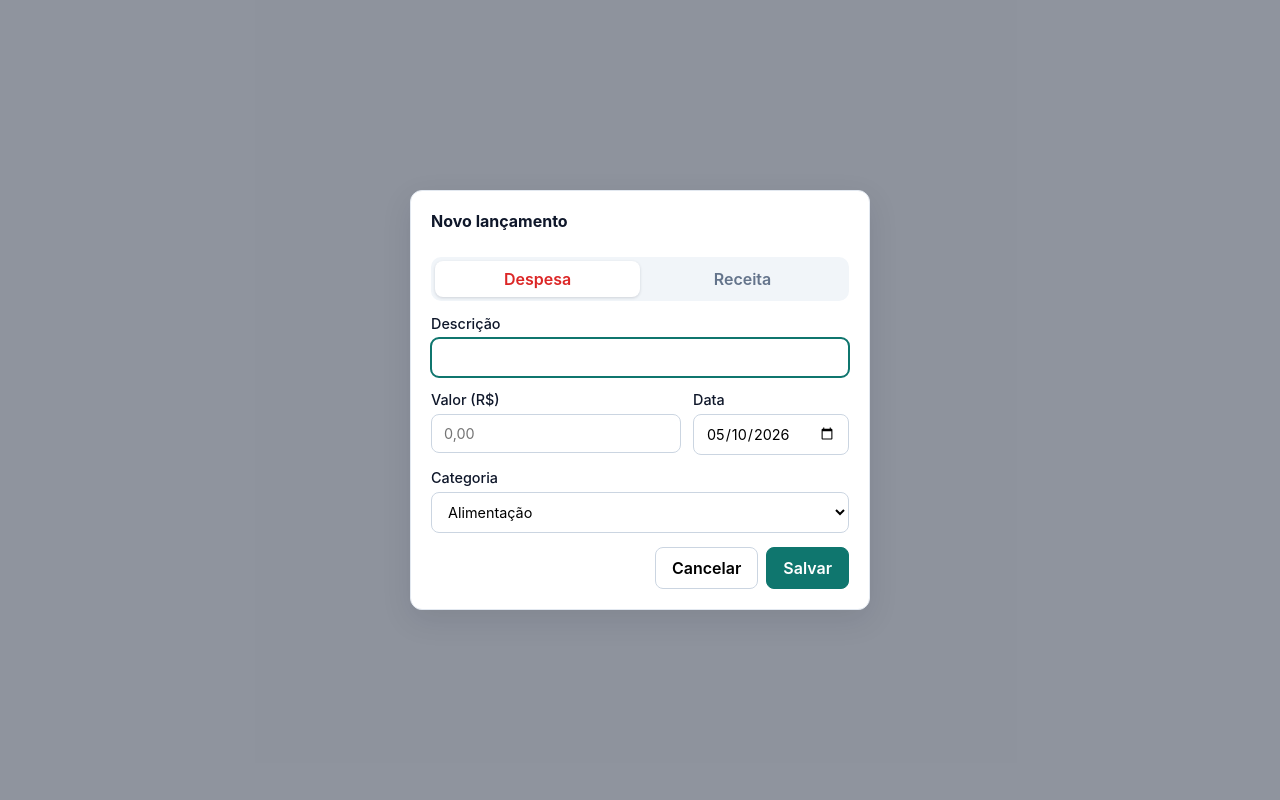
TransactionForm › validates the amount before submitting
This screenshot has width=1280, height=800.
In the field labelled "Descrição": (640, 358) [431,338,849,377], type "Mercado"
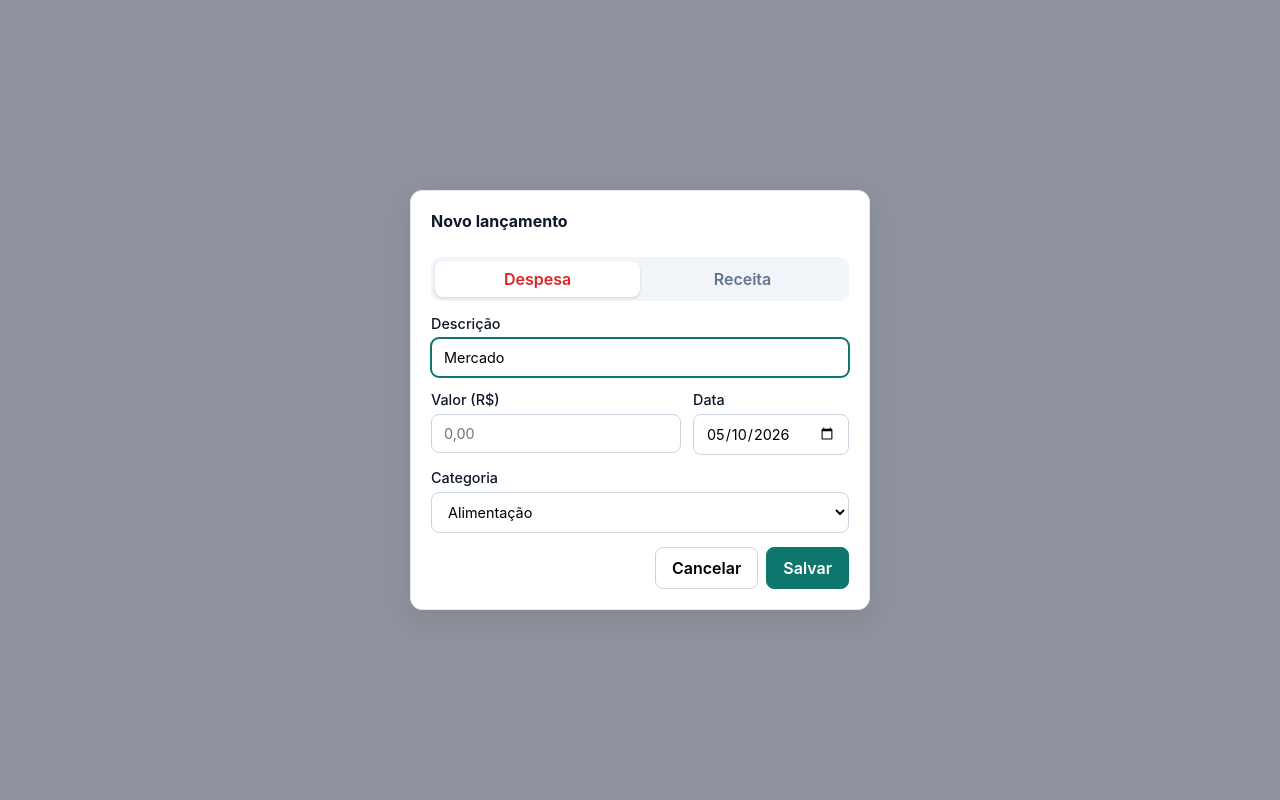
Click the button "Salvar": (808, 568) [766,547,849,589]
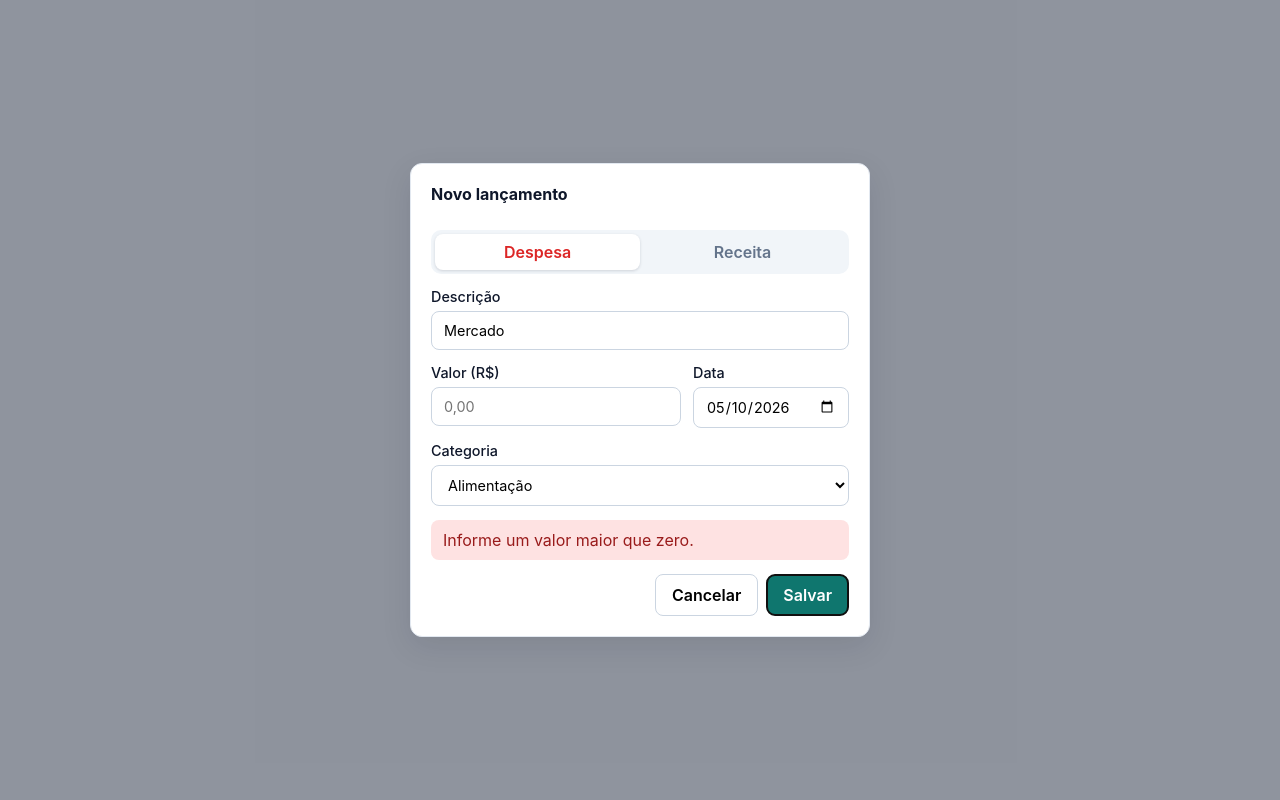
Now the message reads "Informe um valor maior que zero.", box [443,530,694,550]
